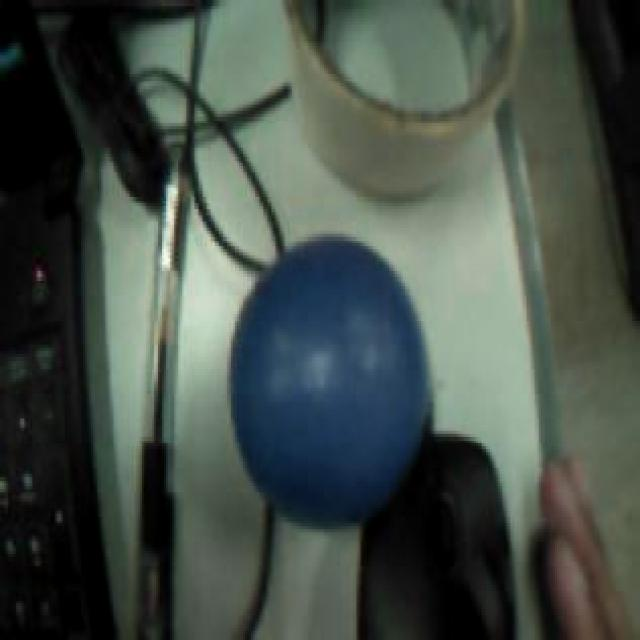BallPurple: (230, 236, 427, 528)
